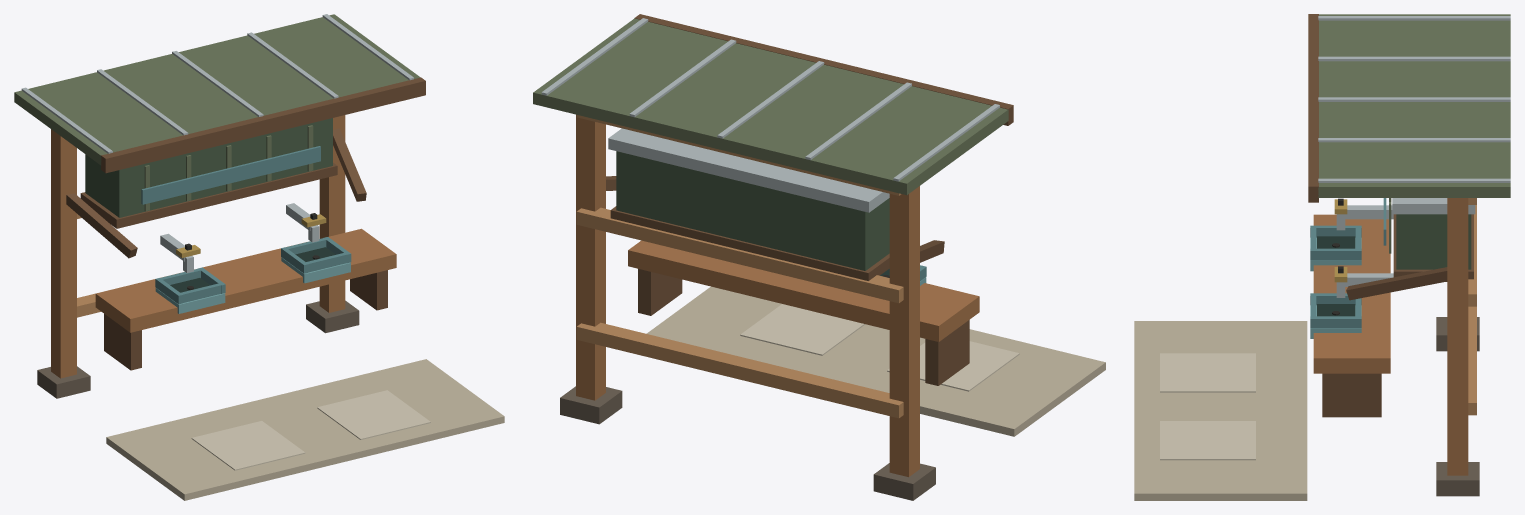
Rendered from lwf_free_water_point_v1.glb.
3 views of the same model, side by side, from view 1: azimuth 30°, elevation 25°; view 2: azimuth 150°, elevation 25°; view 3: azimuth 270°, elevation 25° (orthographic). The views are drawn at different scales.
Parts seen in each view (by area): view 1: LWF_FreeWater_Roof, LWF_FreeWater_ApproachApron, LWF_FreeWater_Frame, LWF_FreeWater_Reservoir, LWF_FreeWater_TwinTaps; view 2: LWF_FreeWater_Frame, LWF_FreeWater_Roof, LWF_FreeWater_Reservoir, LWF_FreeWater_ApproachApron; view 3: LWF_FreeWater_Roof, LWF_FreeWater_ApproachApron, LWF_FreeWater_Frame, LWF_FreeWater_TwinTaps, LWF_FreeWater_Reservoir.
Part boxes in pixels (box(x1,y1,x2,y2)): LWF_FreeWater_Roof: box(14, 14, 425, 173); LWF_FreeWater_ApproachApron: box(106, 359, 504, 500); LWF_FreeWater_Frame: box(37, 115, 396, 398); LWF_FreeWater_Reservoir: box(80, 118, 337, 228); LWF_FreeWater_TwinTaps: box(155, 203, 351, 313); LWF_FreeWater_Frame: box(560, 114, 979, 500); LWF_FreeWater_Roof: box(533, 14, 1013, 195); LWF_FreeWater_Reservoir: box(608, 128, 889, 280); LWF_FreeWater_ApproachApron: box(646, 286, 1105, 436); LWF_FreeWater_Roof: box(1308, 14, 1510, 202); LWF_FreeWater_ApproachApron: box(1134, 321, 1307, 500); LWF_FreeWater_Frame: box(1313, 198, 1479, 496); LWF_FreeWater_TwinTaps: box(1310, 198, 1393, 338); LWF_FreeWater_Reservoir: box(1383, 198, 1475, 281).
Bounding box in the file's own units: 2.55 × 2.18 × 2.35.
1 material, 1 textured.
